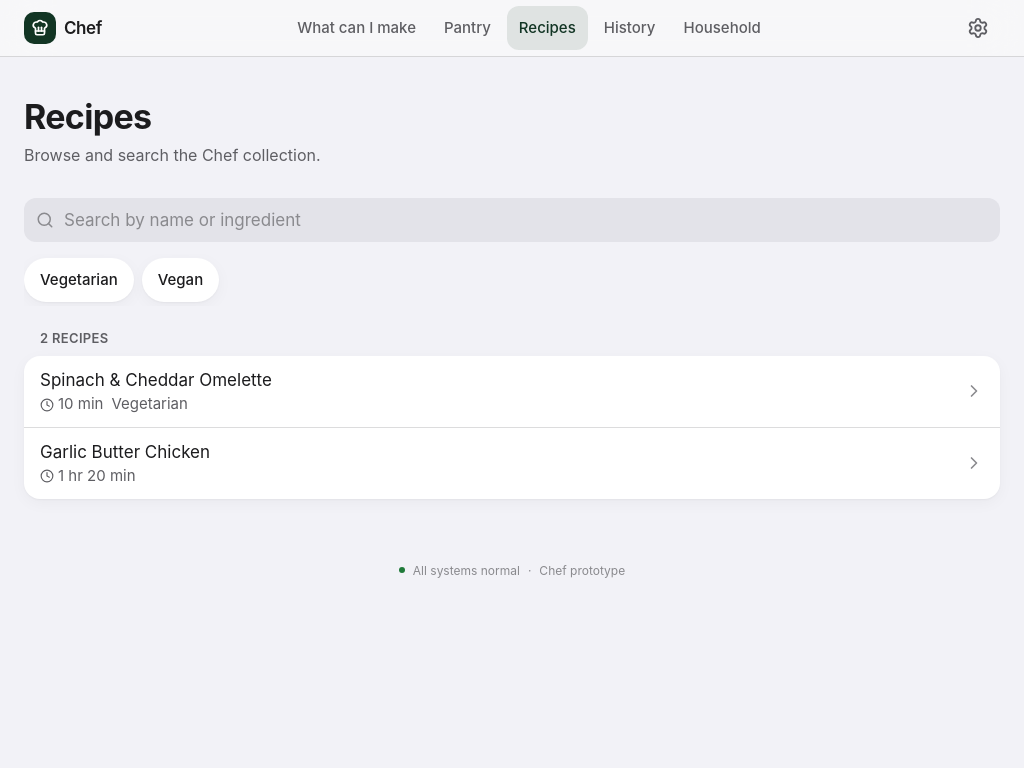
it: RecipesPage › filters by diet tag and toggles the filter off
This screenshot has width=1024, height=768.
Expected: the heading "2 recipes" is shown, [40,330,108,346]
Click the button "Vegetarian": (79, 280) [24,258,134,302]
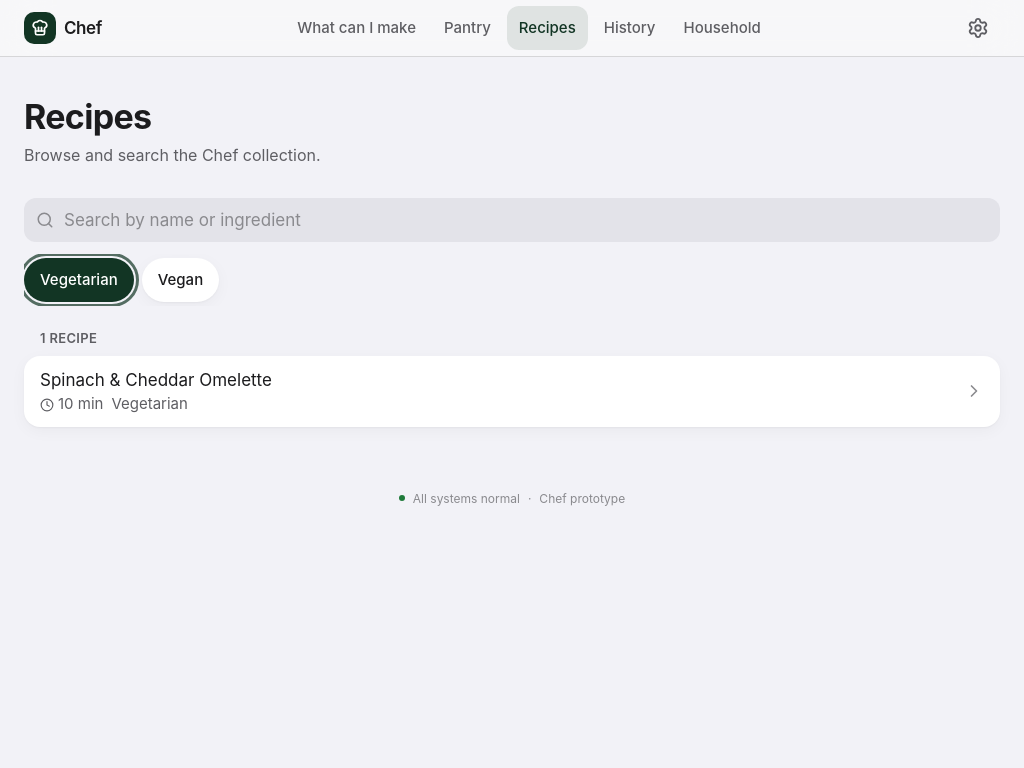
Result: the heading "1 recipe" is shown at [40,330,97,346]
Click the button "Vegetarian": (79, 280) [24,258,134,302]
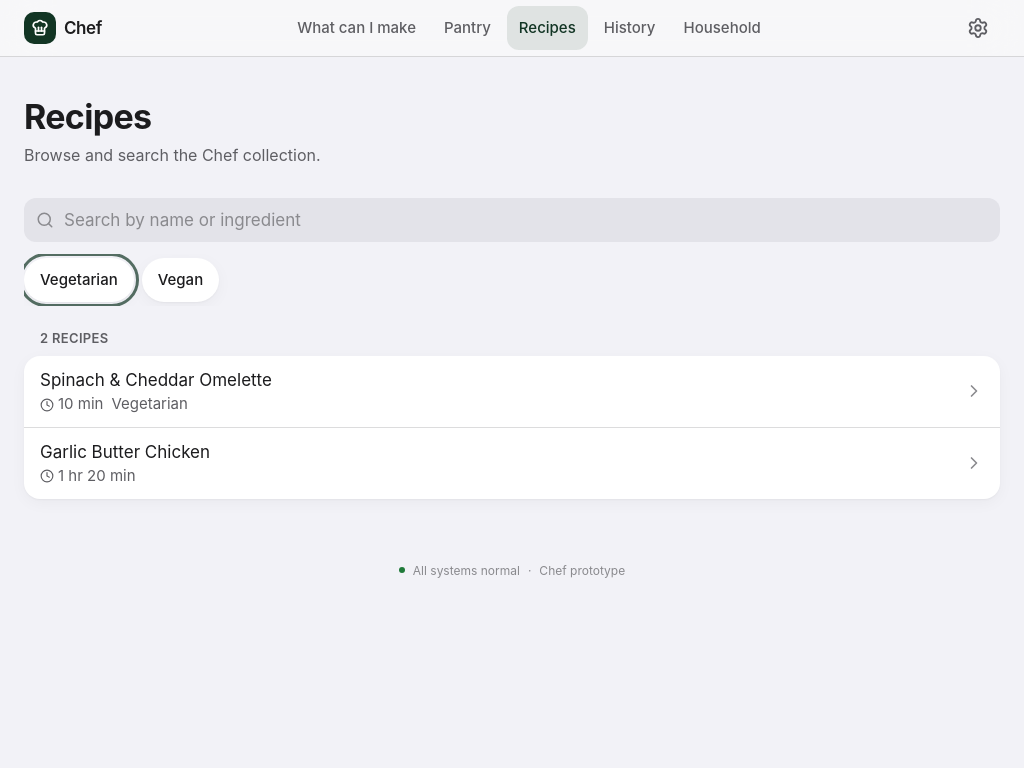
Result: the heading "2 recipes" is shown at [40,330,108,346]
